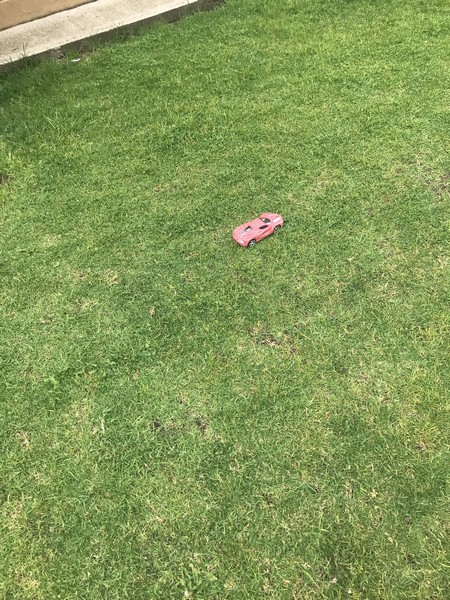RC: (229, 211, 286, 246)
